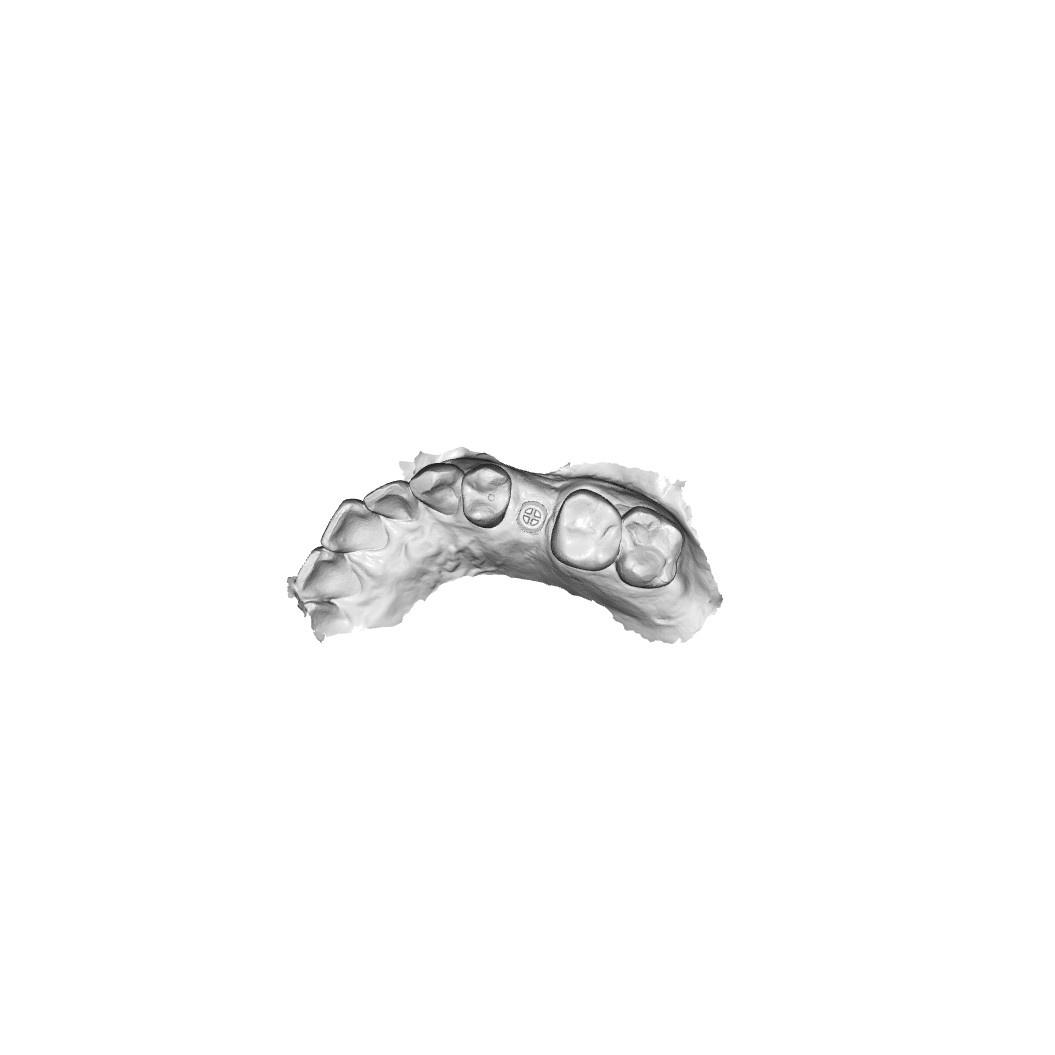canine: (406, 460, 464, 517)
implant_plus: (516, 497, 548, 537)
incisor: (319, 496, 389, 554), (294, 546, 365, 601), (362, 478, 418, 525)
molar: (548, 486, 622, 571), (614, 504, 688, 588)
premolar: (459, 465, 513, 530)
